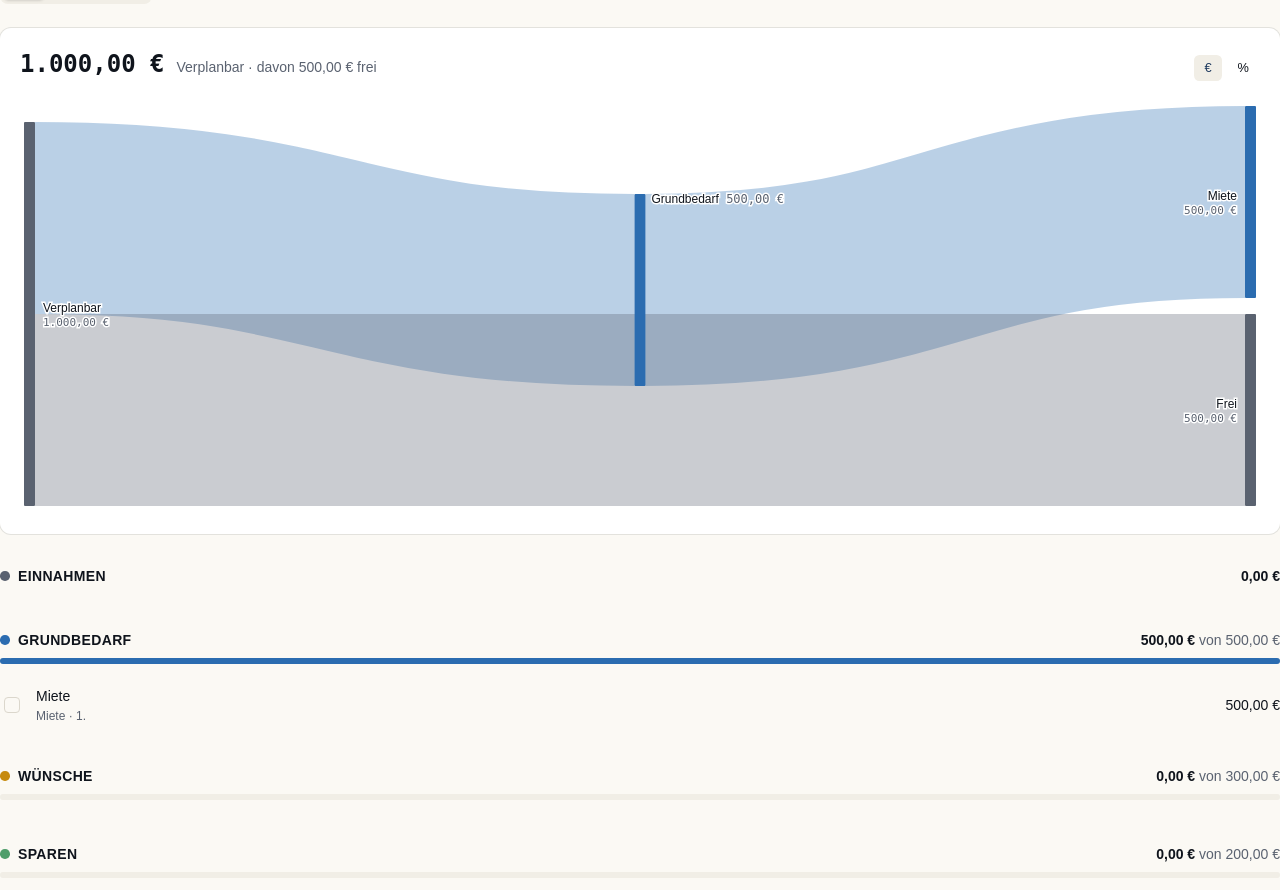
Scenario: ticking off, one operation in every plan (#251) › bookings not loadable: the tick dialog does not pretend date and amount count
The width and height of the screenshot is (1280, 890).
(page scrolled)
What coordinates should you click on to do the following:
click the checkbox named "Miete abhaken"
I would click on:
 (12, 705)
Its box is [4, 697, 20, 713].
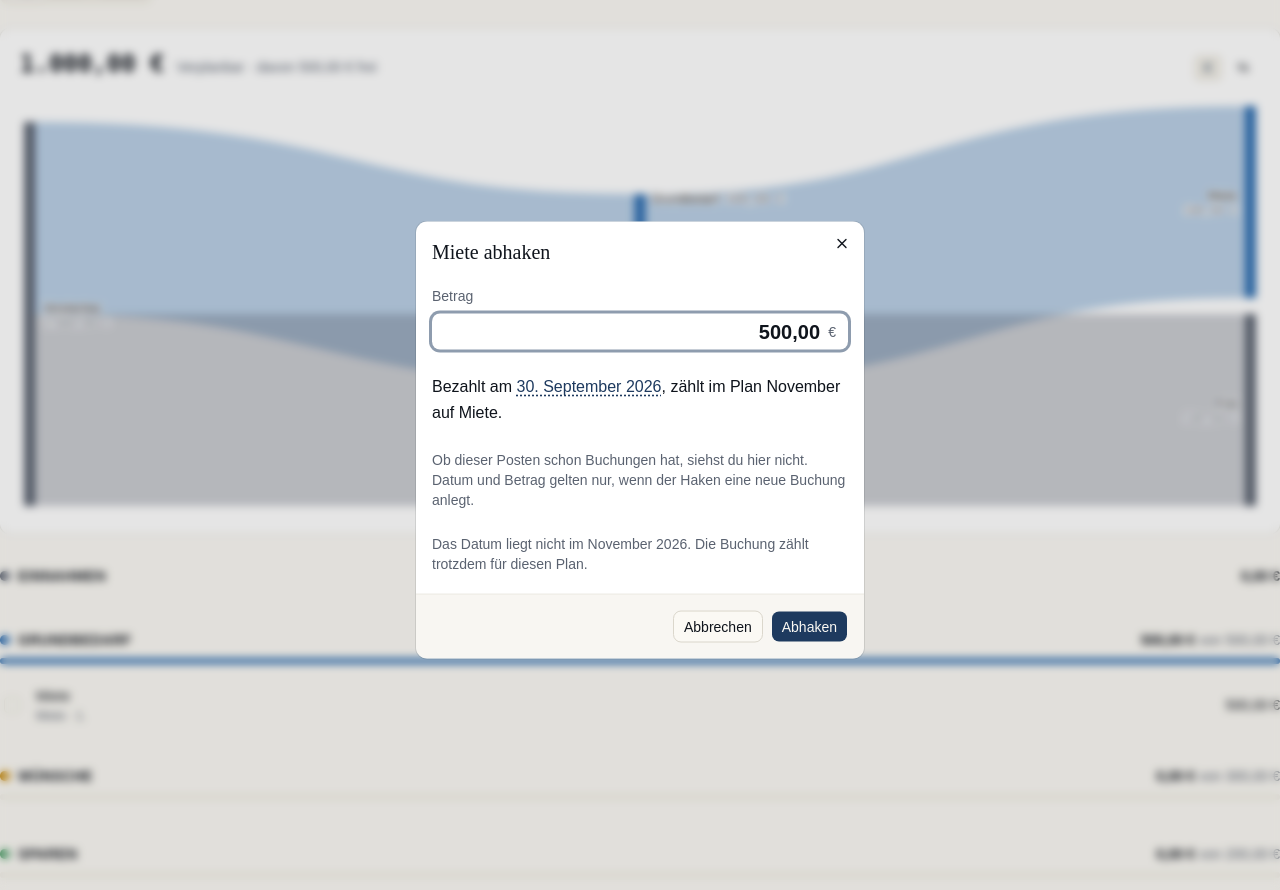
Result: the text "Ob dieser Posten schon Buchungen hat, siehst du hier nicht. Datum und Betrag gelten nur, wenn der Haken eine neue Buchun" is shown at [432, 452, 845, 508]
